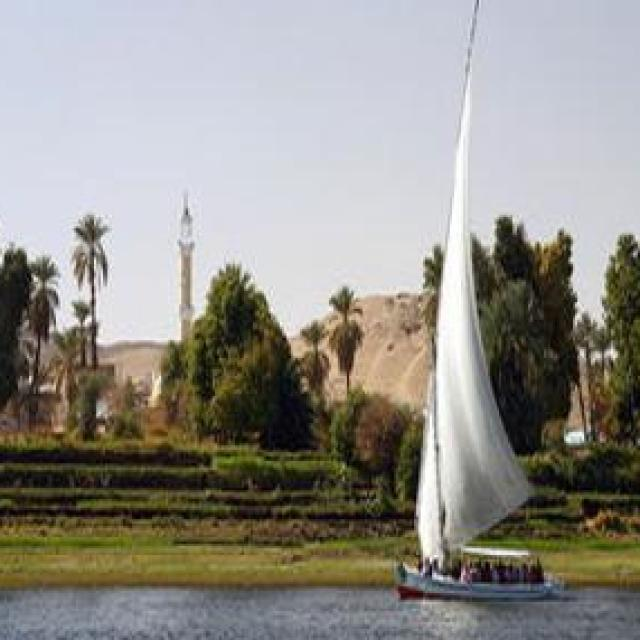sailboat: (394, 0, 568, 600)
